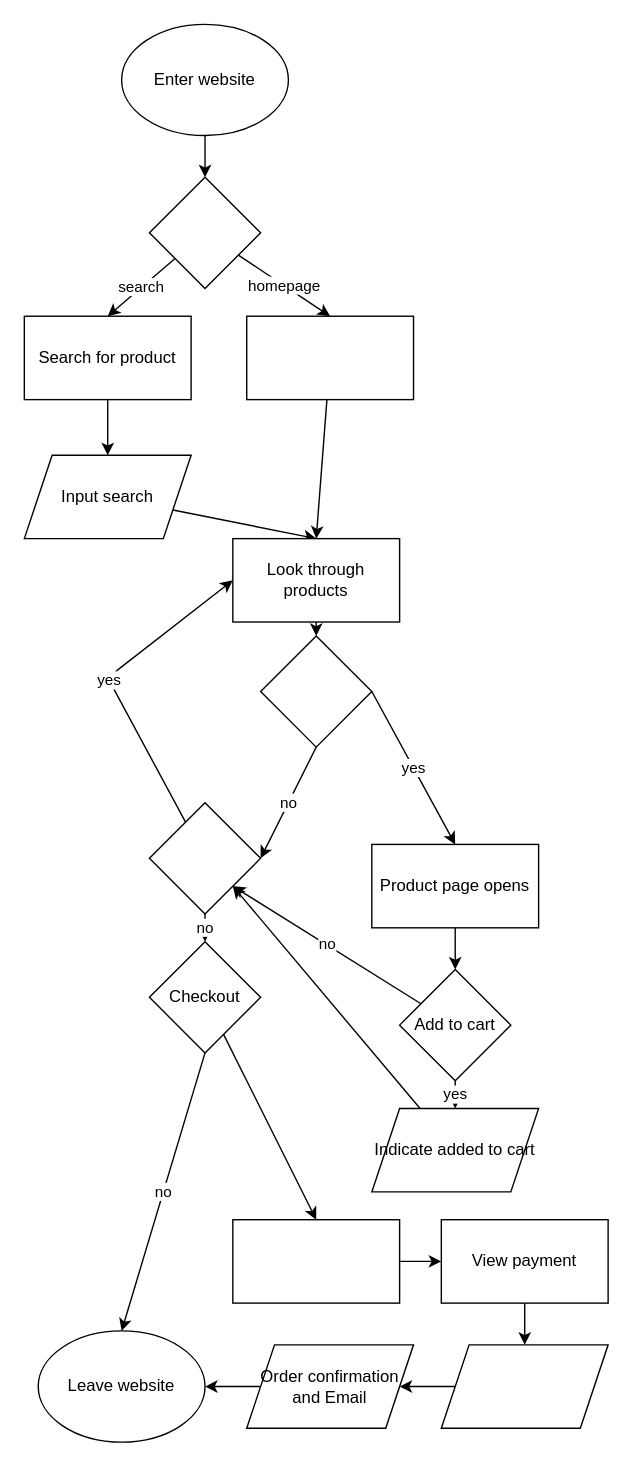
The diagram is 632 pixels wide and 1466 high, and some of its shapes have lost their labels. The box of each missing label's shape, as (x1, y1, x2, y2) in pixels:
Continue Shopping?: (148, 801, 261, 914)
Explore products on homepage: (245, 315, 414, 400)
Input payment info: (440, 1343, 608, 1428)
Search or homepage: (148, 176, 261, 288)
View cart: (231, 1218, 400, 1303)
View specific product: (259, 635, 372, 747)
